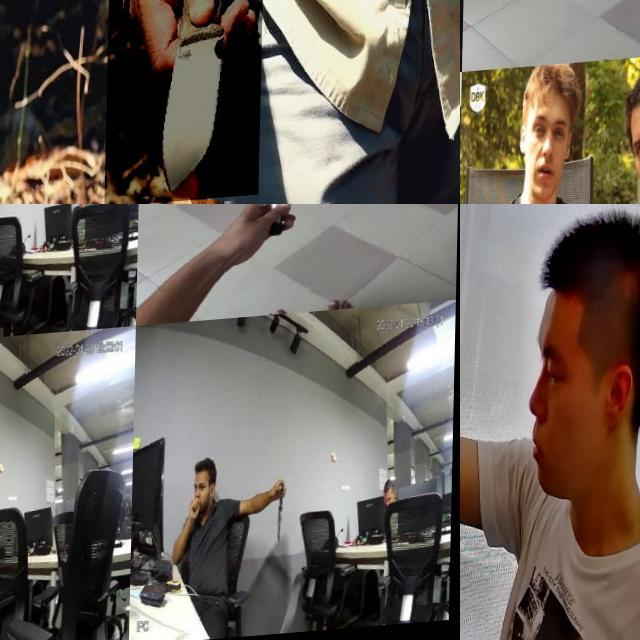-: (107, 0, 265, 204), (562, 0, 640, 59), (254, 204, 302, 246), (274, 504, 292, 552), (0, 565, 8, 606), (0, 224, 7, 268), (460, 3, 469, 23)
gun-knife-thesis - v11 Yolov5 augmented: (460, 536, 507, 640)
